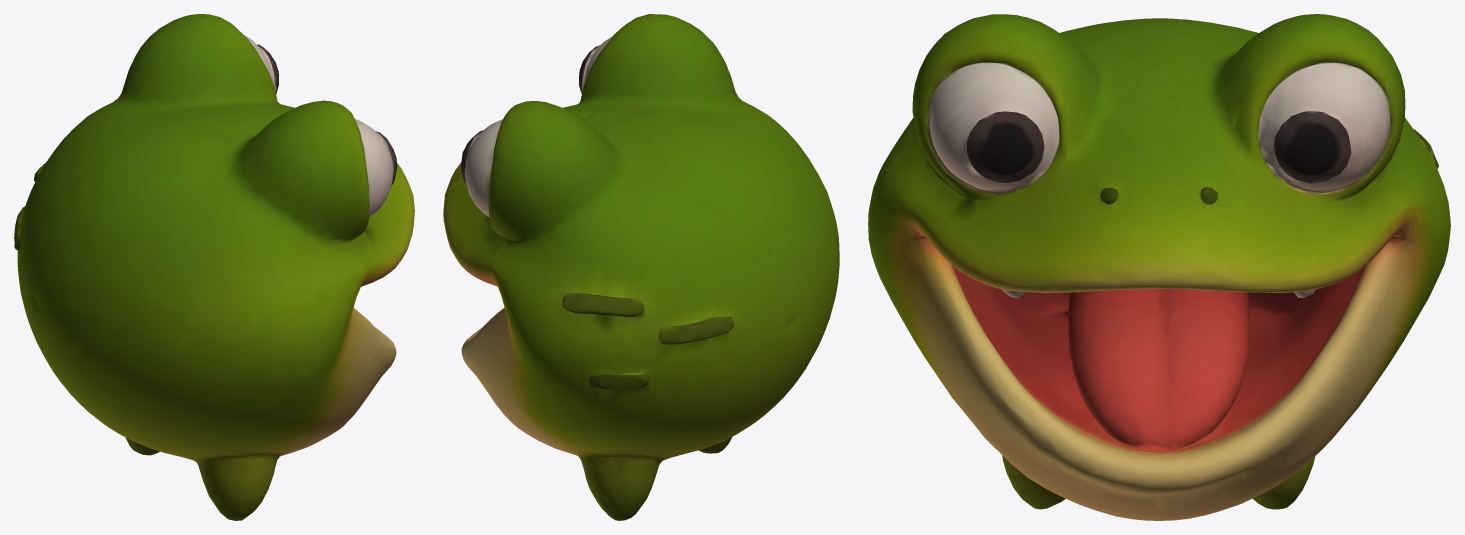
Rendered from head.glb.
The picture shows the model from 3 angles, left to right: view 1: azimuth 30°, elevation 25°; view 2: azimuth 150°, elevation 25°; view 3: azimuth 270°, elevation 25°; orthographic projection. The views are drawn at different scales.
Parts seen in each view (by area): view 1: tripo_node_2da42d45-0381-4f4d-b26c-58f2540ab68d; view 2: tripo_node_2da42d45-0381-4f4d-b26c-58f2540ab68d; view 3: tripo_node_2da42d45-0381-4f4d-b26c-58f2540ab68d.
Boxes of the visible parts, x1,y1,x2,y2 form: tripo_node_2da42d45-0381-4f4d-b26c-58f2540ab68d: [14, 14, 414, 520]; tripo_node_2da42d45-0381-4f4d-b26c-58f2540ab68d: [443, 14, 839, 520]; tripo_node_2da42d45-0381-4f4d-b26c-58f2540ab68d: [868, 14, 1450, 520].
Size of the model in its own units: 0.8857 by 1 by 0.9941.
Materials: 1 (1 with a texture image).
